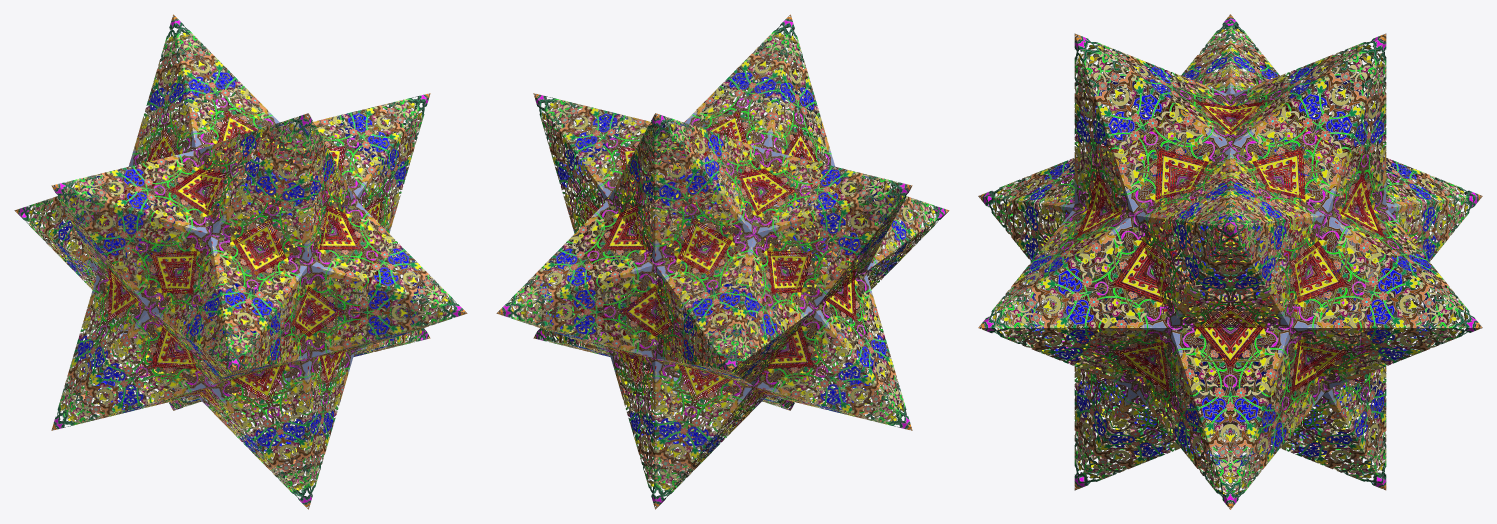
Rendered from SmallStellatedDodecahedron11.obj.
3 renders of one model, left to right at view 1: azimuth 30°, elevation 25°; view 2: azimuth 150°, elevation 25°; view 3: azimuth 270°, elevation 25°, orthographic. The views are drawn at different scales.
Size of the model in its own units: 1 by 1 by 1.
Materials: 1 (1 with a texture image).
